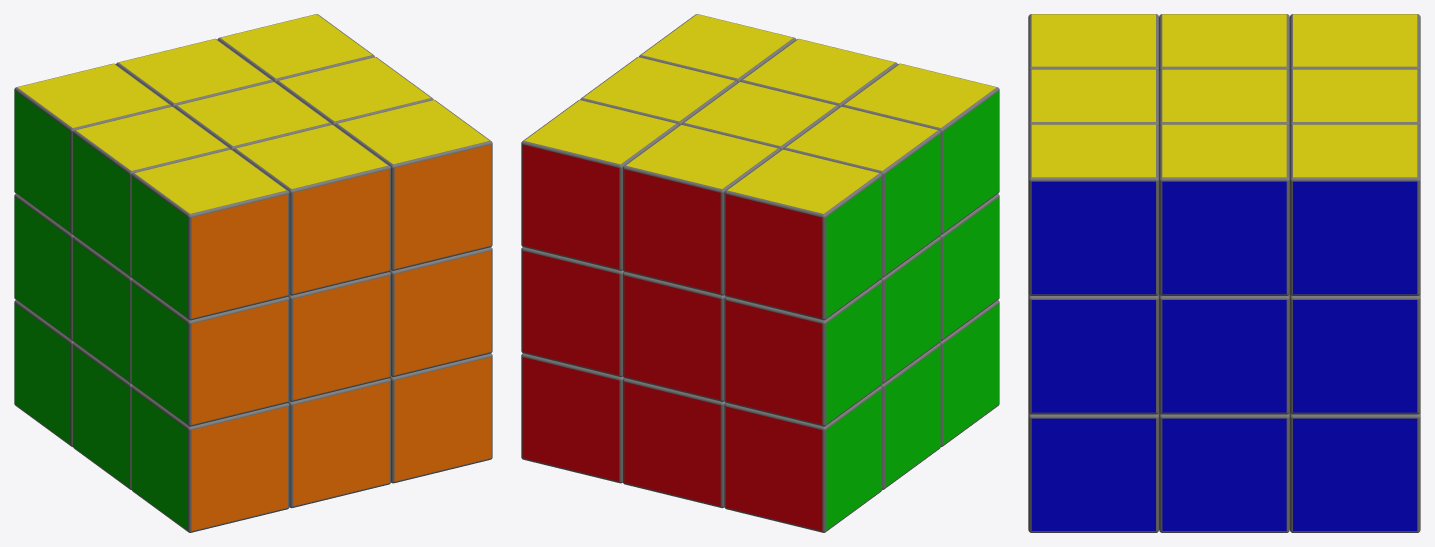
3 renders of one model, left to right at view 1: azimuth 30°, elevation 25°; view 2: azimuth 150°, elevation 25°; view 3: azimuth 270°, elevation 25°, orthographic. The views are drawn at different scales.
Visible parts, largest first — view 1: Cube.018, Cube, Cube.009, Cube.019, Cube.020, Cube.024, Cube.021, Cube.002, Cube.001, Cube.011, Cube.010, Cube.015 (+7 smaller); view 2: Cube.024, Cube.006, Cube.015, Cube.025, Cube.026, Cube.018, Cube.021, Cube.008, Cube.007, Cube.017, Cube.016, Cube.009 (+7 smaller); view 3: Cube.020, Cube.023, Cube.026, Cube.011, Cube.017, Cube.005, Cube.014, Cube.002, Cube.008, Cube.021, Cube.019, Cube.025 (+3 smaller).
Part boxes in pixels (x1,y1,x2,y2): Cube.018: (131, 149, 289, 320); Cube: (131, 386, 289, 532); Cube.009: (131, 279, 289, 426); Cube.019: (233, 124, 390, 295); Cube.020: (335, 100, 492, 270); Cube.024: (14, 63, 171, 234); Cube.021: (73, 106, 230, 277); Cube.002: (390, 353, 492, 483); Cube.001: (288, 378, 390, 508); Cube.011: (390, 247, 492, 377); Cube.010: (288, 272, 390, 401); Cube.015: (14, 194, 74, 340); Cube.024: (724, 149, 882, 320); Cube.006: (724, 386, 882, 532); Cube.015: (724, 279, 882, 426); Cube.025: (623, 124, 780, 295); Cube.026: (521, 100, 678, 270); Cube.018: (842, 63, 999, 234); Cube.021: (783, 106, 940, 277); Cube.008: (521, 353, 623, 483); Cube.007: (623, 378, 725, 508); Cube.017: (521, 247, 623, 377); Cube.016: (623, 272, 725, 401); Cube.009: (939, 194, 999, 340); Cube.020: (1028, 124, 1158, 295); Cube.023: (1159, 124, 1289, 295); Cube.026: (1290, 124, 1420, 295); Cube.011: (1028, 293, 1158, 414); Cube.017: (1290, 293, 1420, 414); Cube.005: (1159, 412, 1289, 532); Cube.014: (1159, 293, 1289, 414); Cube.002: (1028, 412, 1158, 532); Cube.008: (1290, 412, 1420, 532); Cube.021: (1159, 14, 1289, 71); Cube.019: (1028, 69, 1158, 126); Cube.025: (1290, 69, 1420, 126).
Size of the model in its own units: 6 by 6 by 6.
